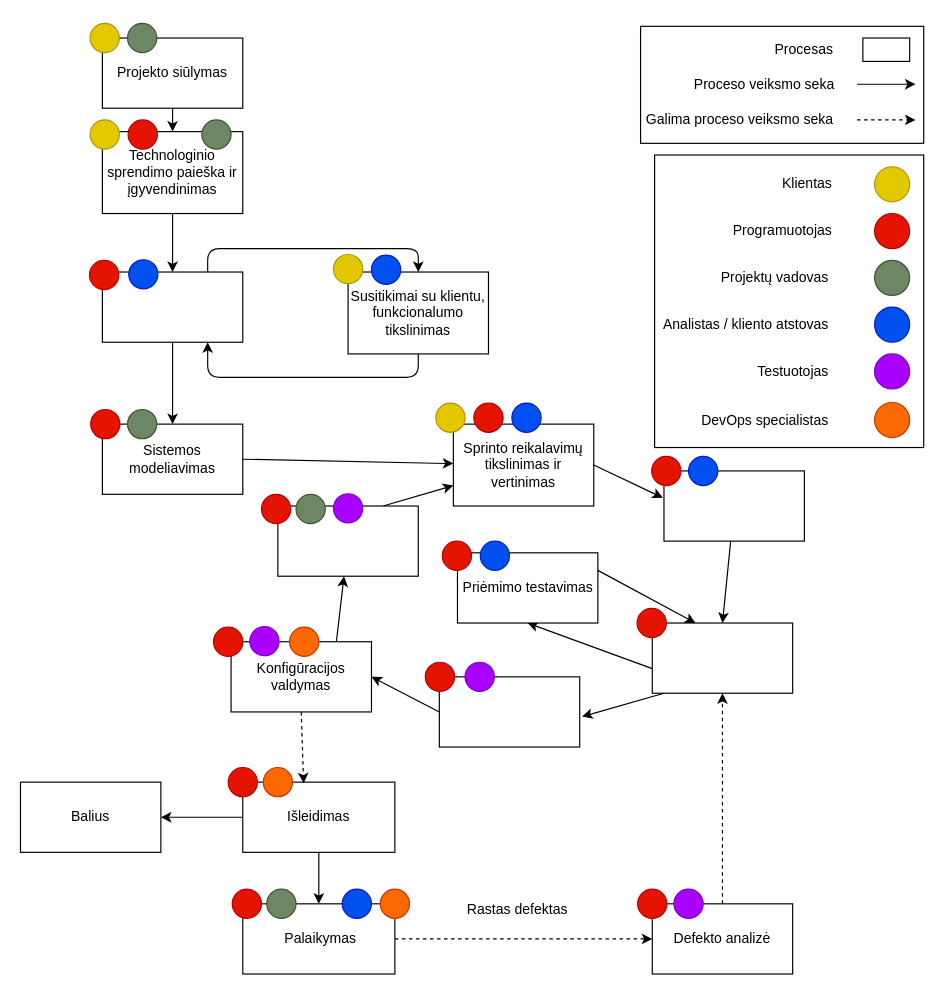
Image size: 945x994. Some labels were removed from this diagram. Each missing label, with the box of its shape:
Kokybės užtikrinimas: (438, 676, 580, 747)
Pradinių reikalavimų sudarymas: (101, 271, 243, 342)
Programavimas: (651, 622, 793, 693)
Sprinto aptarimas: (277, 505, 418, 576)
Užduočių analizė: (663, 470, 804, 541)
